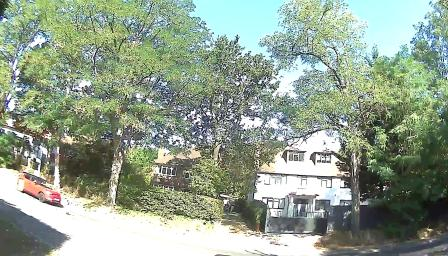Cars: (20, 170, 64, 206)
